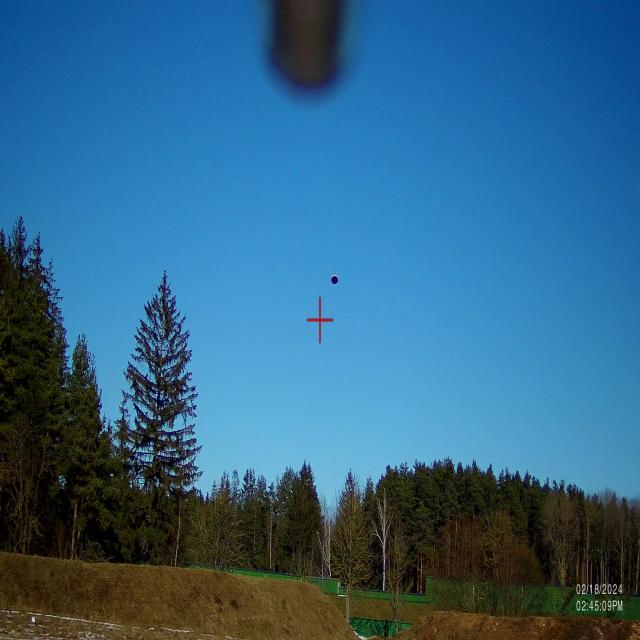entire: (328, 271, 342, 298)
